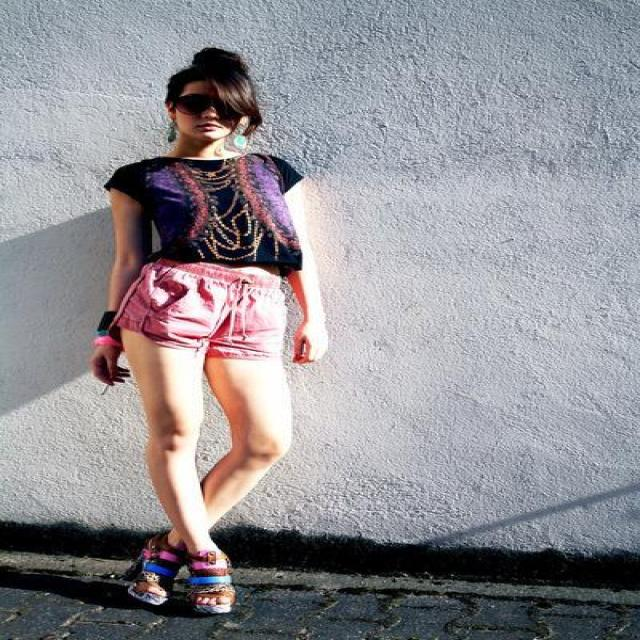shirt: (104, 154, 302, 277)
shoe: (112, 529, 234, 612)
shorts: (98, 253, 292, 370)
